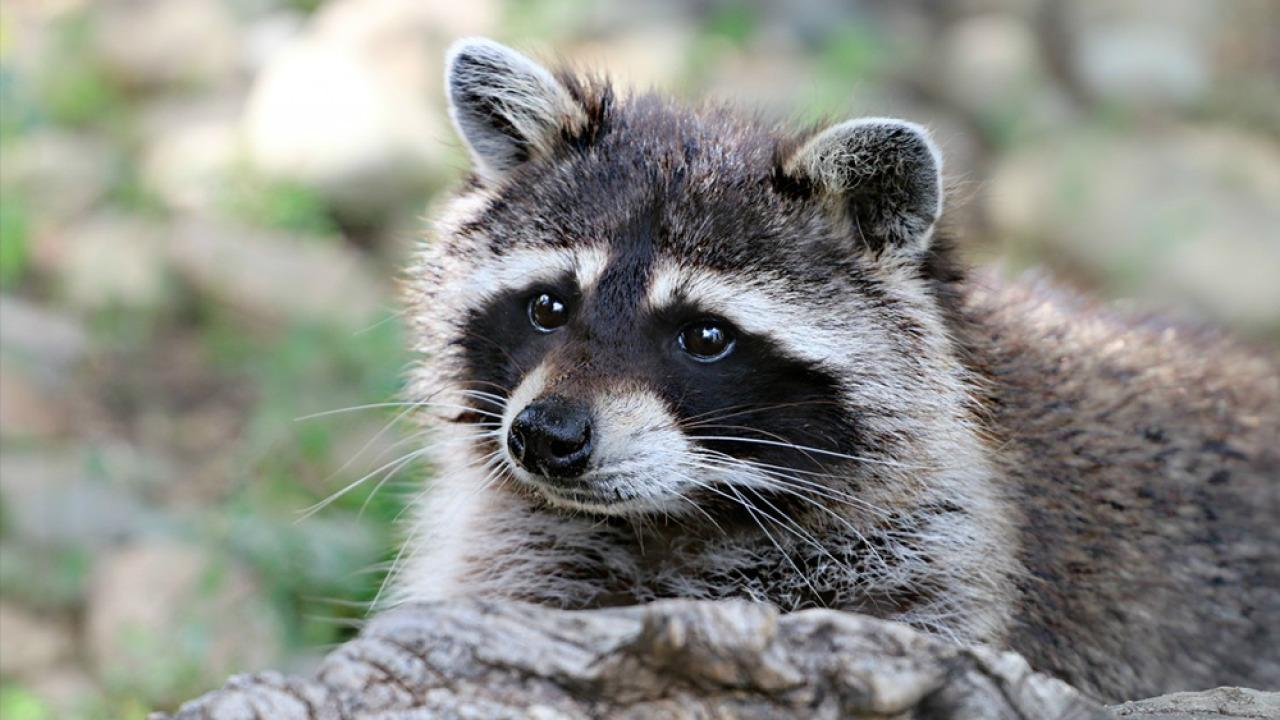raccoon: (403, 35, 1280, 688)
